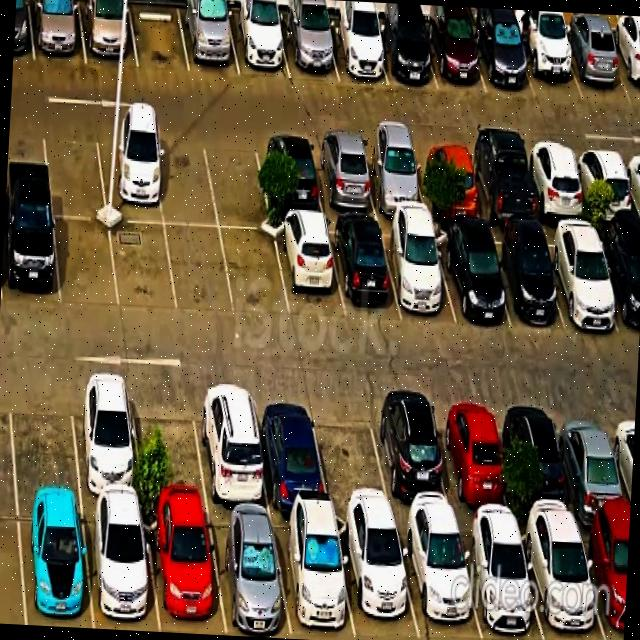empty: (311, 394, 393, 517), (131, 381, 208, 507), (8, 375, 80, 497), (203, 134, 271, 230), (153, 131, 218, 226), (110, 222, 177, 314), (165, 225, 234, 314), (42, 124, 107, 218), (220, 230, 289, 318), (54, 218, 119, 308), (129, 2, 190, 72)
occupied: (206, 509, 292, 638), (368, 396, 456, 519), (271, 513, 356, 640), (335, 515, 420, 640), (143, 506, 226, 634), (457, 521, 544, 640), (396, 521, 482, 640), (432, 397, 513, 523), (518, 523, 605, 640), (83, 501, 160, 631), (18, 500, 93, 629), (193, 385, 270, 510), (252, 389, 330, 511), (554, 402, 630, 525), (503, 399, 578, 523), (70, 376, 143, 503), (541, 227, 621, 330), (484, 229, 564, 326), (433, 228, 511, 327), (380, 223, 456, 324), (327, 220, 401, 318), (274, 218, 345, 319), (95, 128, 164, 223), (578, 524, 630, 640), (466, 145, 538, 225), (2, 210, 60, 307), (558, 28, 631, 103), (413, 143, 483, 221), (255, 137, 325, 215), (310, 138, 378, 215), (360, 140, 428, 216), (514, 26, 583, 100), (572, 147, 638, 224), (523, 146, 589, 222), (470, 21, 535, 97), (595, 228, 640, 337), (424, 19, 486, 93), (373, 21, 438, 89), (227, 9, 290, 78), (179, 5, 239, 76), (325, 18, 388, 85), (78, 0, 138, 67), (279, 16, 338, 80), (29, 0, 86, 64), (607, 32, 640, 103)
